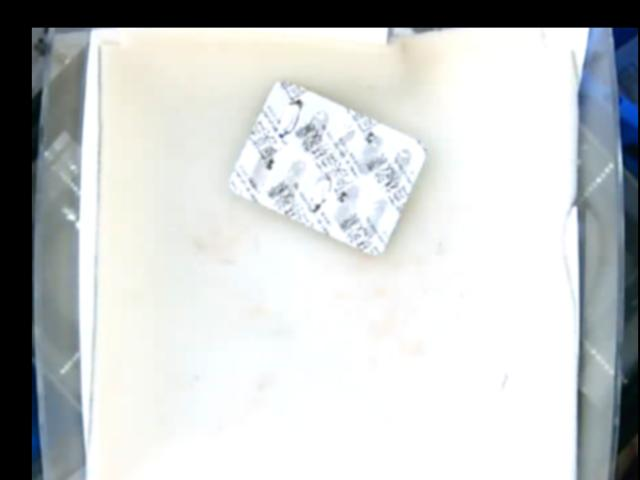Medicine: (226, 78, 425, 254)
